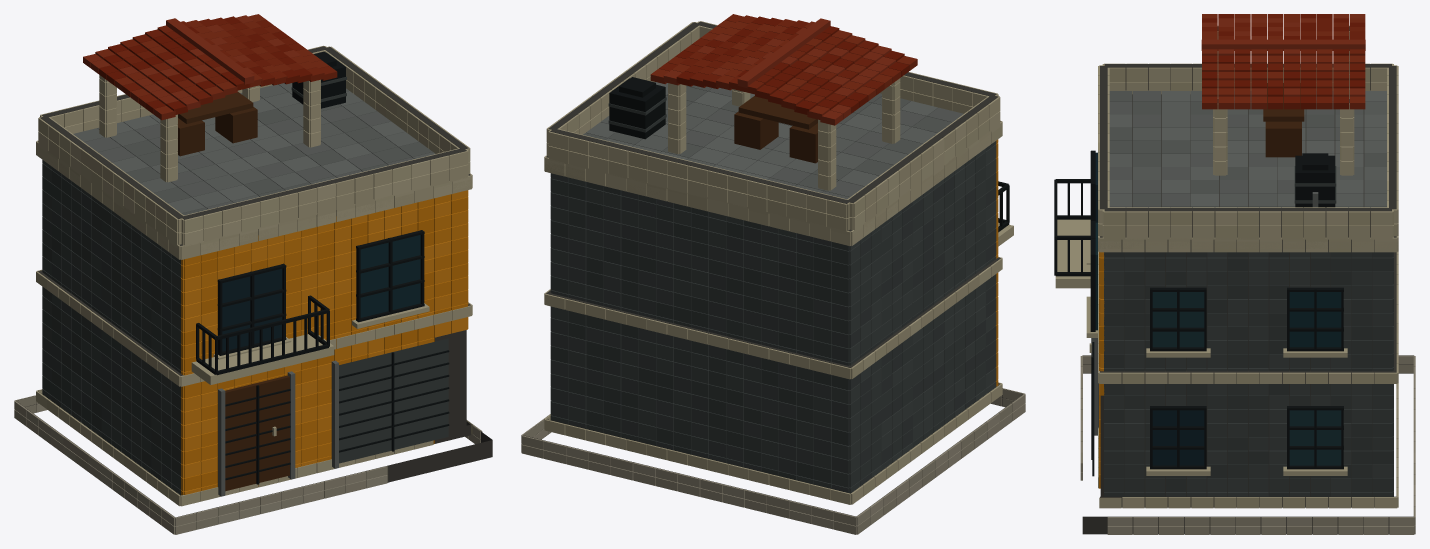
File: SM_StreetFrontage_052.fbx
The picture shows the model from 3 angles, left to right: view 1: azimuth 30°, elevation 25°; view 2: azimuth 150°, elevation 25°; view 3: azimuth 270°, elevation 25°; orthographic projection. The views are drawn at different scales.
Visible parts, largest first — view 1: SM_StreetFrontage_052; view 2: SM_StreetFrontage_052; view 3: SM_StreetFrontage_052.
Part boxes in pixels (<box>): SM_StreetFrontage_052: <box>14,14,492,534</box>; SM_StreetFrontage_052: <box>521,14,1025,534</box>; SM_StreetFrontage_052: <box>1054,14,1415,534</box>.
Size of the model in its own units: 8 by 7.53 by 9.15.
